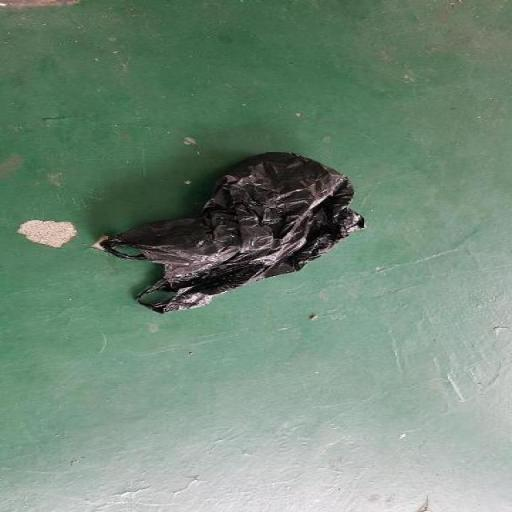plastic-bag: (89, 150, 372, 318)
